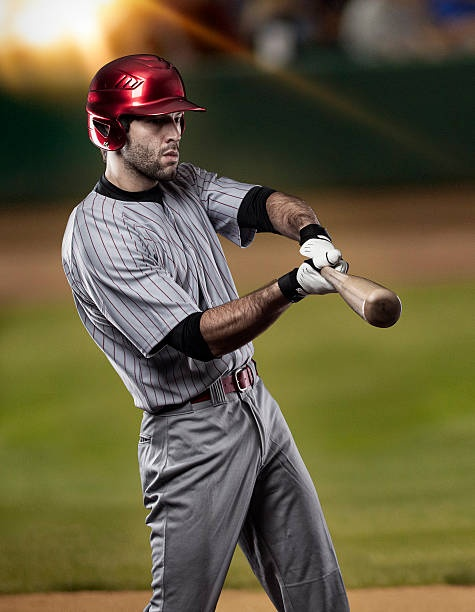bita: (308, 258, 399, 325)
